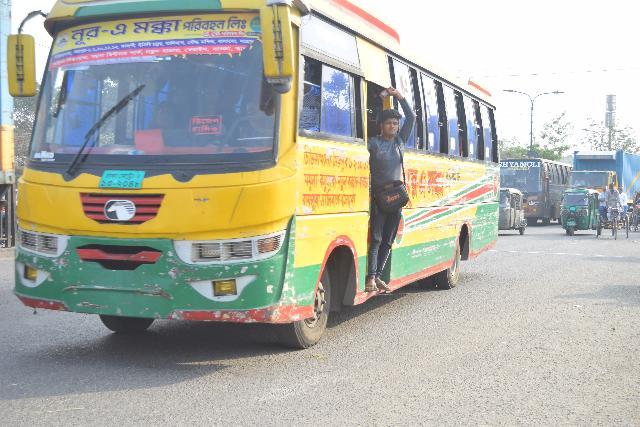bus: (11, 0, 502, 328), (502, 158, 562, 223)
truck: (572, 150, 640, 209)
